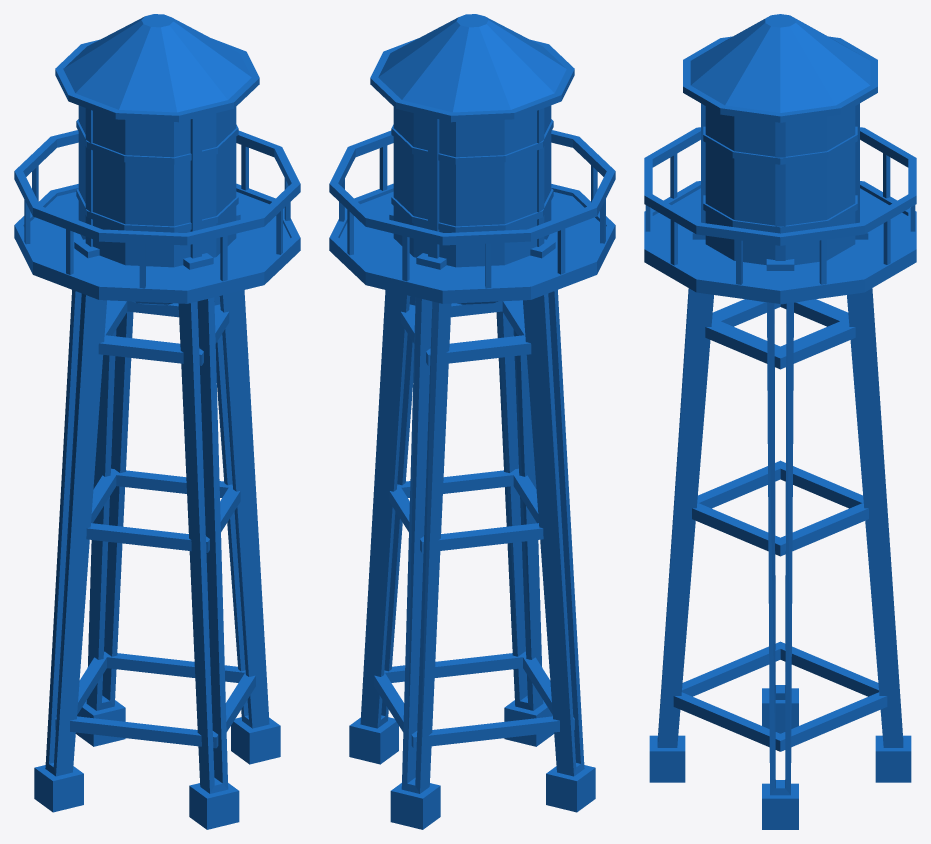
Rendered from SM_water_tower.fbx.
The picture shows the model from 3 angles, left to right: view 1: azimuth 30°, elevation 25°; view 2: azimuth 150°, elevation 25°; view 3: azimuth 270°, elevation 25°; orthographic projection.
Parts seen in each view (by area): view 1: Cube_9; view 2: Cube_9; view 3: Cube_9.
Boxes of the visible parts, <box> form: Cube_9: <box>14,14,300,829</box>; Cube_9: <box>329,14,615,829</box>; Cube_9: <box>644,14,916,829</box>.
Bounding box in the file's own units: 344 × 1001 × 328.
